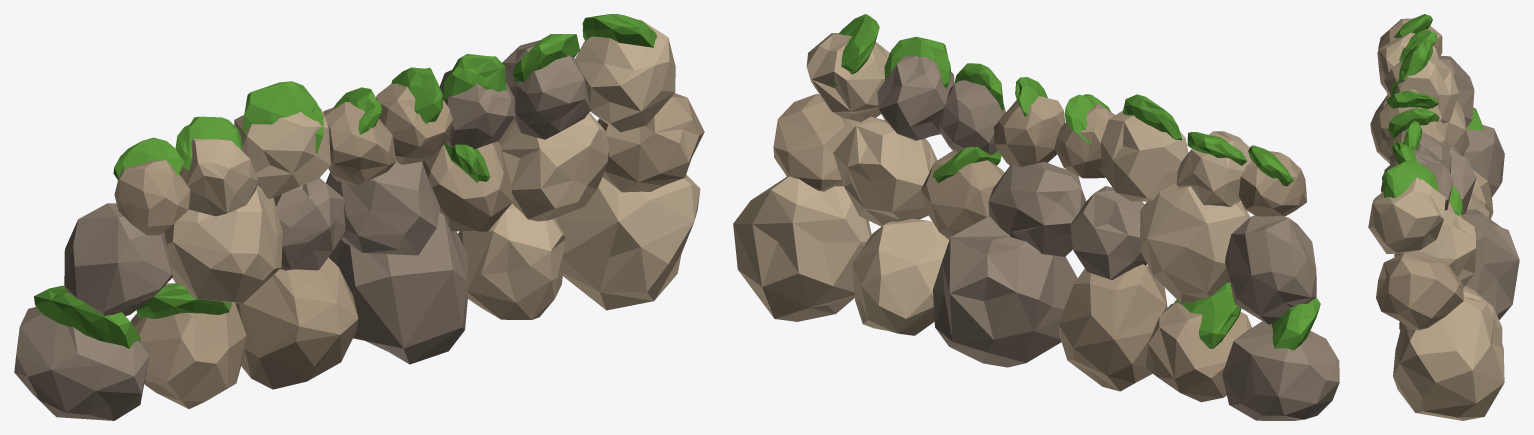
Rendered from terrain_boulder_wall.glb.
3 views of the same model, side by side, from view 1: azimuth 30°, elevation 25°; view 2: azimuth 150°, elevation 25°; view 3: azimuth 270°, elevation 25° (orthographic). The views are drawn at different scales.
Visible parts, largest first — view 1: Wall.005, Wall.003, Wall.002, Wall, Wall.007, Wall.004, Wall.006, Wall.001, Wall.011, Wall.009, Wall.020, Wall.012 (+20 smaller); view 2: Wall.003, Wall.005, Wall.002, Wall, Wall.007, Wall.004, Wall.006, Wall.011, Wall.009, Wall.001, Wall.015, Wall.012 (+20 smaller); view 3: Wall.005, Wall.012, Wall.020, Wall.003, Wall.011, Wall.015, Wall, Wall.007, Moss.010, Wall.009, Wall.006, Wall.014 (+17 smaller).
Boxes of the visible parts, bbox=[...] form: Wall.005: bbox=[555, 174, 700, 310]; Wall.003: bbox=[328, 212, 467, 364]; Wall.002: bbox=[235, 257, 358, 389]; Wall: bbox=[14, 307, 149, 420]; Wall.007: bbox=[164, 185, 282, 303]; Wall.004: bbox=[458, 203, 565, 319]; Wall.006: bbox=[64, 203, 172, 315]; Wall.001: bbox=[130, 283, 246, 408]; Wall.011: bbox=[497, 112, 608, 221]; Wall.009: bbox=[326, 160, 440, 255]; Wall.020: bbox=[575, 19, 675, 132]; Wall.012: bbox=[597, 93, 704, 192]; Wall.003: bbox=[933, 216, 1077, 367]; Wall.005: bbox=[733, 176, 871, 321]; Wall.002: bbox=[1058, 264, 1167, 391]; Wall: bbox=[1222, 321, 1339, 420]; Wall.007: bbox=[1140, 183, 1249, 303]; Wall.004: bbox=[852, 218, 949, 335]; Wall.006: bbox=[1225, 215, 1316, 324]; Wall.011: bbox=[833, 116, 937, 226]; Wall.009: bbox=[988, 162, 1086, 256]; Wall.001: bbox=[1145, 302, 1251, 402]; Wall.015: bbox=[1101, 110, 1188, 201]; Wall.012: bbox=[773, 93, 860, 191]; Wall.005: bbox=[1393, 296, 1504, 420]; Wall.012: bbox=[1376, 252, 1463, 330]; Wall.020: bbox=[1368, 177, 1445, 253]; Wall.003: bbox=[1462, 209, 1519, 319]; Wall.011: bbox=[1394, 210, 1475, 287]; Wall.015: bbox=[1384, 56, 1459, 123]; Wall: bbox=[1463, 125, 1504, 196]; Wall.007: bbox=[1370, 95, 1469, 163]; Moss.010: bbox=[1382, 160, 1438, 198]; Wall.009: bbox=[1449, 150, 1476, 214]; Wall.006: bbox=[1440, 56, 1474, 127]; Wall.014: bbox=[1377, 32, 1440, 91].
Size of the model in its own units: 8.71 by 4.01 by 2.27.
